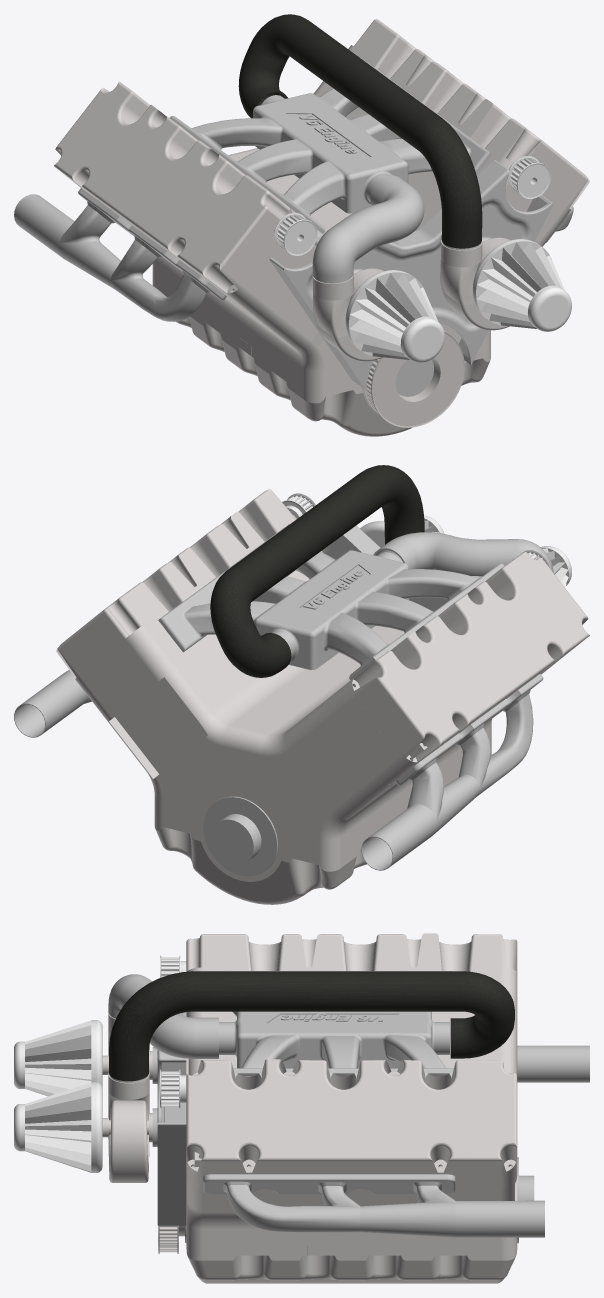
The model's file is v6-engine.glb.
3 renders of one model, top to bottom at view 1: azimuth 30°, elevation 25°; view 2: azimuth 150°, elevation 25°; view 3: azimuth 270°, elevation 25°, orthographic.
Parts seen in each view (by area): view 1: Object_23, Object_16, Object_18, Object_2, Object_29, Object_37, Object_32, Object_36, Object_17, Object_24, Object_27, Object_28 (+2 smaller); view 2: Object_29, Object_23, Object_18, Object_2, Object_16, Object_32, Object_17, Object_34, Object_33, Object_19, Object_15, Object_37 (+1 smaller); view 3: Object_23, Object_2, Object_15, Object_18, Object_32, Object_29, Object_16, Object_37, Object_36, Object_27, Object_17, Object_34 (+2 smaller).
Part boxes in pixels (left/top/right/bottom): Object_23: left=54, top=19, right=589, bottom=295; Object_16: left=14, top=160, right=553, bottom=390; Object_18: left=169, top=58, right=492, bottom=233; Object_2: left=238, top=14, right=482, bottom=248; Object_29: left=152, top=81, right=542, bottom=387; Object_37: left=345, top=239, right=571, bottom=362; Object_32: left=152, top=273, right=490, bottom=436; Object_36: left=274, top=156, right=564, bottom=328; Object_17: left=312, top=175, right=434, bottom=396; Object_24: left=362, top=331, right=464, bottom=427; Object_27: left=440, top=237, right=510, bottom=330; Object_28: left=312, top=268, right=383, bottom=361; Object_29: left=103, top=551, right=491, bottom=856; Object_23: left=56, top=489, right=589, bottom=764; Object_18: left=158, top=524, right=504, bottom=680; Object_2: left=210, top=465, right=424, bottom=677; Object_16: left=322, top=525, right=543, bottom=870; Object_32: left=154, top=741, right=491, bottom=904; Object_17: left=211, top=532, right=553, bottom=865; Object_34: left=78, top=519, right=427, bottom=754; Object_33: left=324, top=657, right=562, bottom=784; Object_19: left=203, top=796, right=277, bottom=876; Object_15: left=14, top=670, right=91, bottom=737; Object_37: left=360, top=515, right=571, bottom=587; Object_23: left=186, top=933, right=517, bottom=1174; Object_2: left=109, top=971, right=514, bottom=1081; Object_15: left=203, top=1174, right=544, bottom=1237; Object_18: left=192, top=971, right=453, bottom=1076; Object_32: left=186, top=1239, right=517, bottom=1283; Object_29: left=186, top=1011, right=517, bottom=1245; Object_16: left=152, top=1012, right=589, bottom=1225; Object_37: left=14, top=1020, right=102, bottom=1172; Object_36: left=25, top=955, right=186, bottom=1172; Object_27: left=102, top=1072, right=152, bottom=1182; Object_17: left=108, top=974, right=534, bottom=1200; Object_34: left=186, top=1073, right=517, bottom=1188.
Size of the model in its own units: 725 by 537 by 885.
5 materials, 1 textured.
